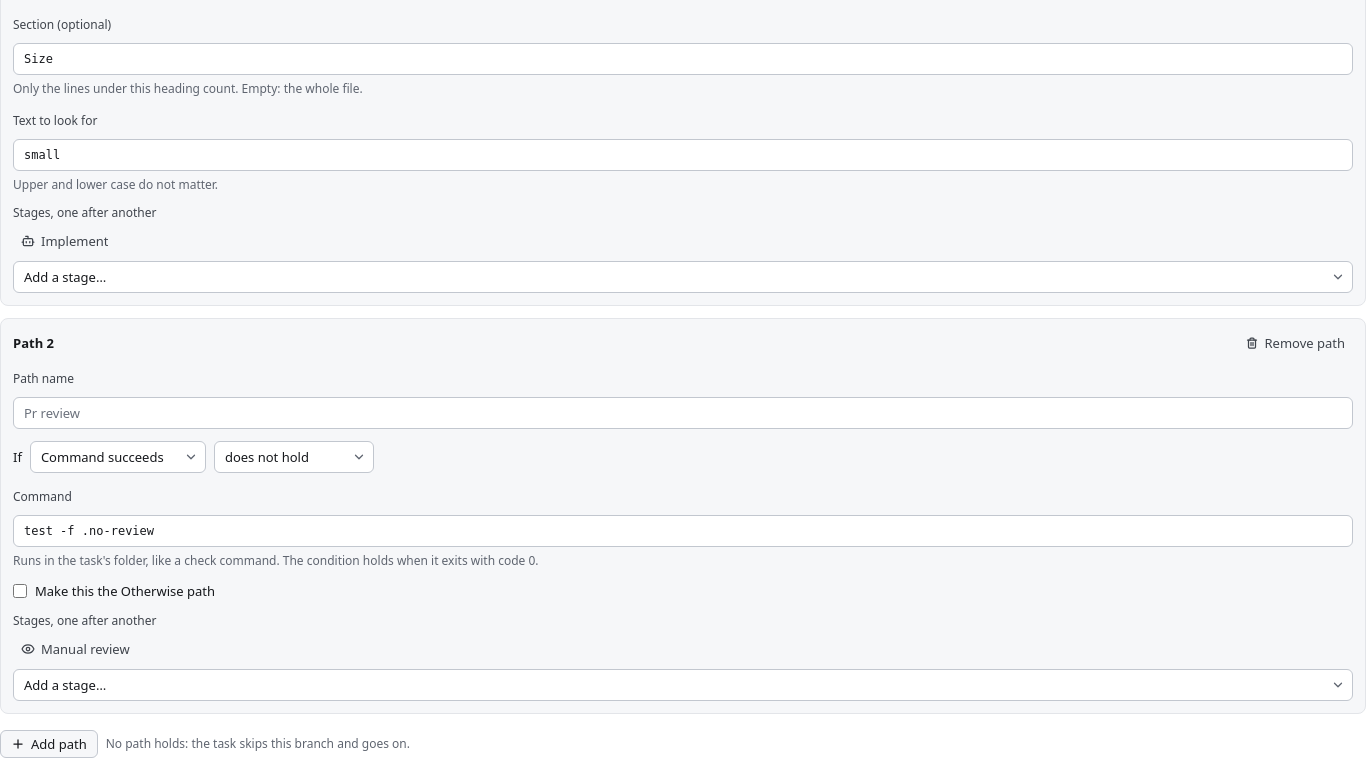
Test: BranchDetails › adds a path, and hides Add path at four paths
(page scrolled)
Click the button "Add path": [49, 744] box x1=0 y1=730 x2=98 y2=757
(page scrolled)
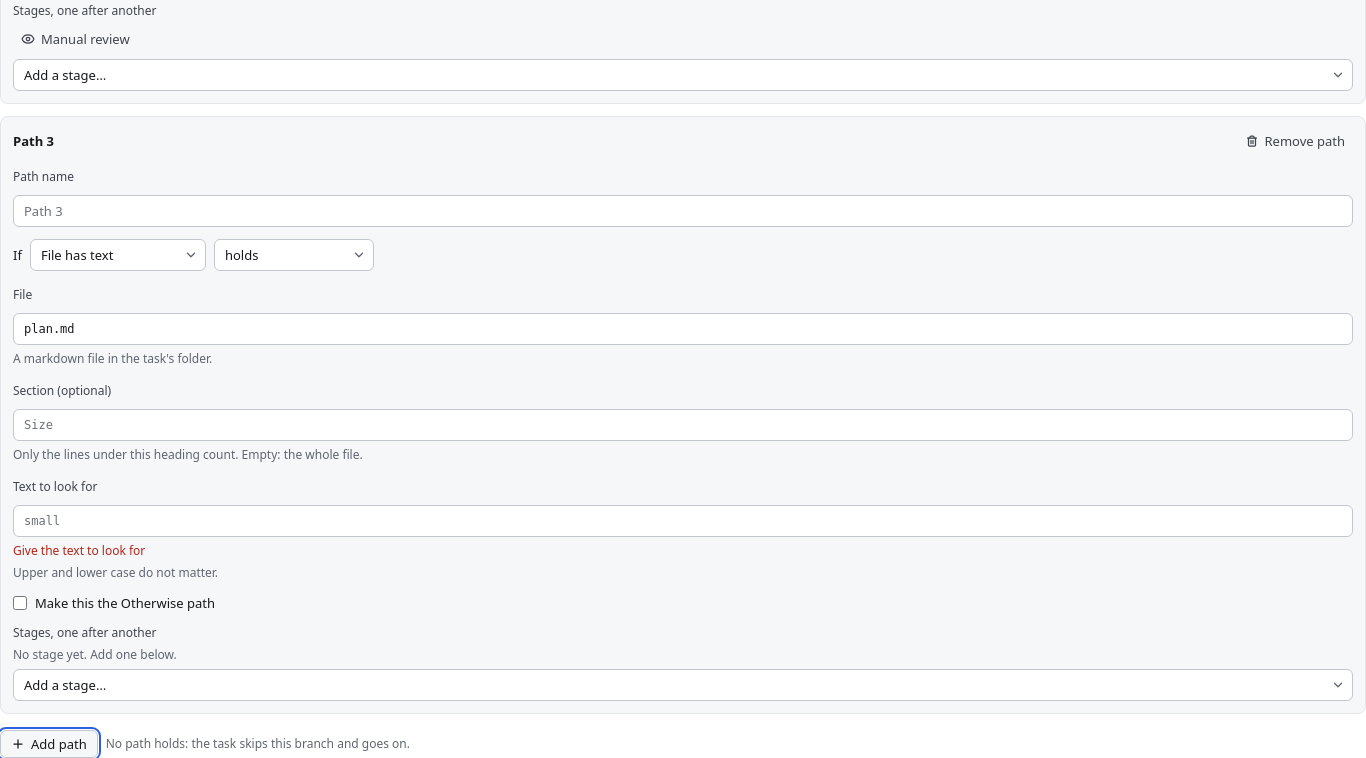
Click the button "Add path": [49, 744] box x1=0 y1=730 x2=98 y2=757
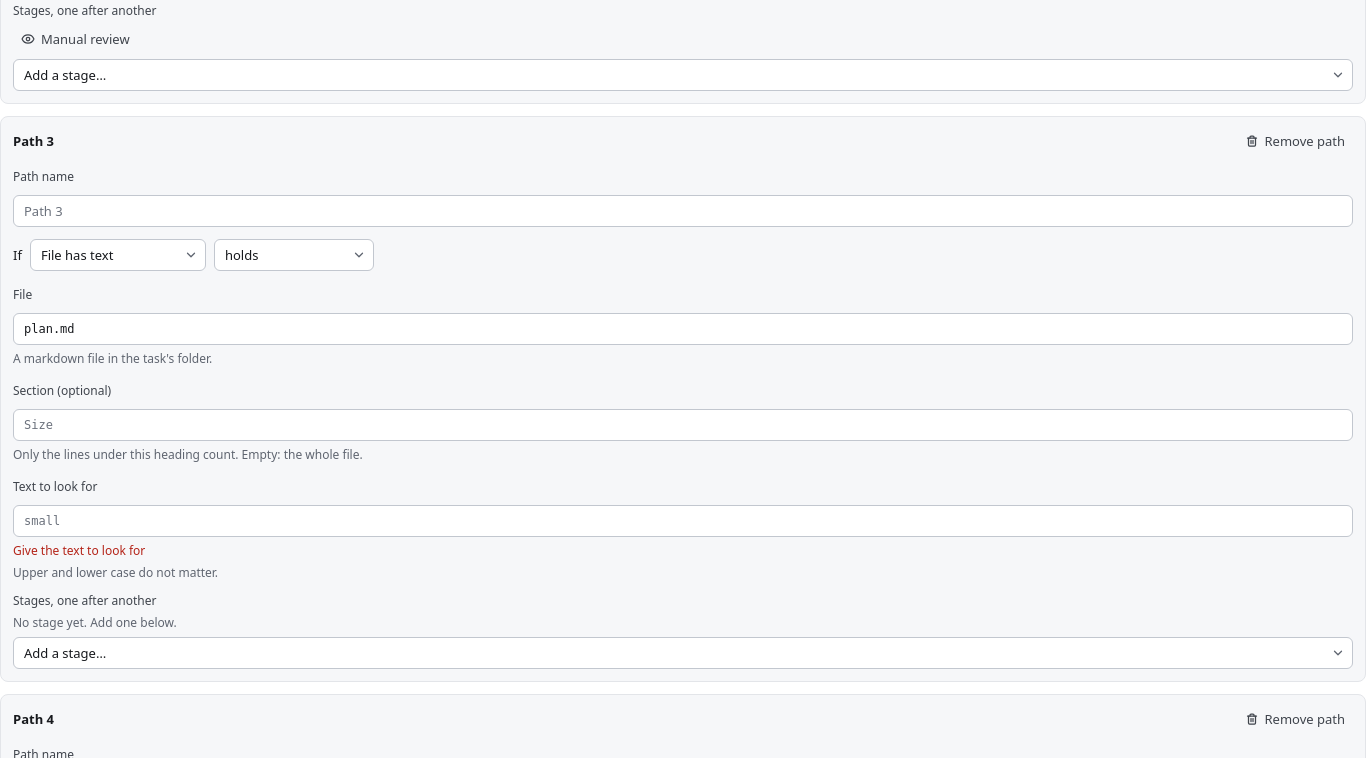
Expected: the button "Add path" is gone
